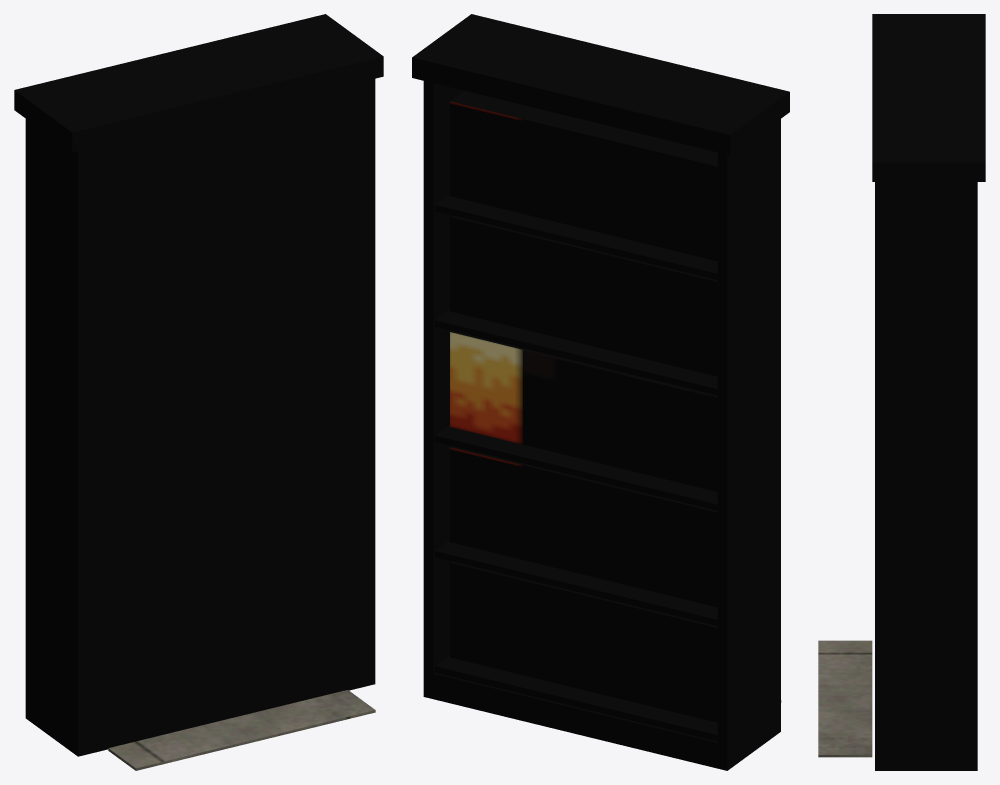
File: SM_bookcase_secret.fbx
The picture shows the model from 3 angles, left to right: view 1: azimuth 30°, elevation 25°; view 2: azimuth 150°, elevation 25°; view 3: azimuth 270°, elevation 25°; orthographic projection. The views are drawn at different scales.
Parts seen in each view (by area): view 1: bookcase_secret_case, bookcase_secret; view 2: bookcase_secret_case; view 3: bookcase_secret_case, bookcase_secret.
Boxes of the visible parts, x1=… form: bookcase_secret_case: x1=14, y1=14, x2=383, y2=756; bookcase_secret: x1=108, y1=690, x2=375, y2=770; bookcase_secret_case: x1=412, y1=14, x2=789, y2=770; bookcase_secret_case: x1=872, y1=14, x2=985, y2=770; bookcase_secret: x1=818, y1=640, x2=872, y2=757.
Size of the model in its own units: 1.3 by 2.5 by 0.62.
